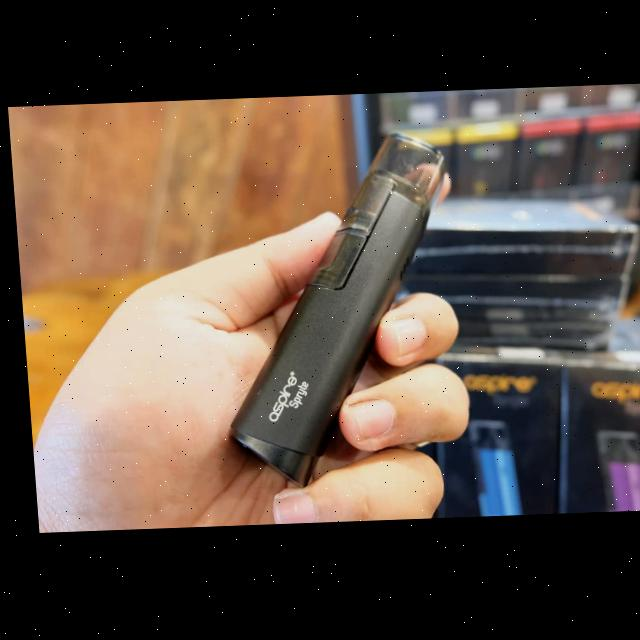vape: (204, 135, 464, 492)
